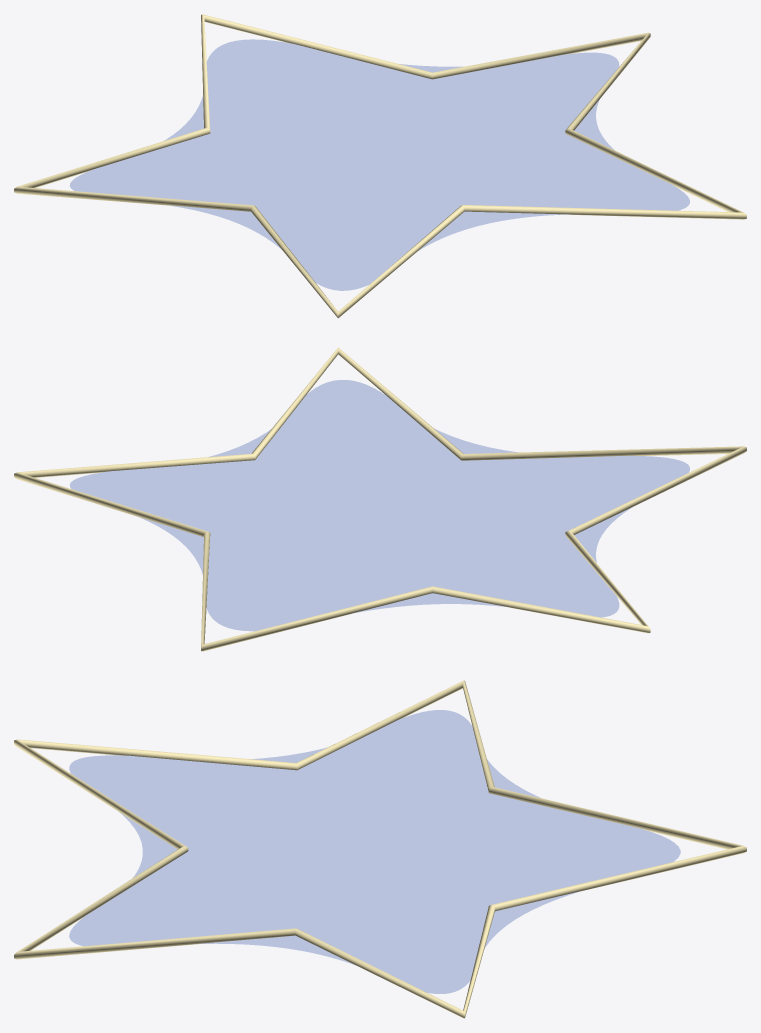
File: example.gltf
3 views of the same model, one above another, from view 1: azimuth 30°, elevation 25°; view 2: azimuth 150°, elevation 25°; view 3: azimuth 270°, elevation 25° (orthographic). The views are drawn at different scales.
Visible parts, largest first — view 1: chaikin_plate, control_polygon; view 2: chaikin_plate, control_polygon; view 3: chaikin_plate, control_polygon.
Part boxes in pixels (box(x1,y1,x2,y2)): chaikin_plate: box(70, 39, 689, 290); control_polygon: box(14, 14, 746, 318); chaikin_plate: box(69, 380, 689, 631); control_polygon: box(14, 347, 746, 651); chaikin_plate: box(69, 710, 680, 993); control_polygon: box(14, 680, 746, 1018).
Bounding box in the file's own units: 2.82 × 0.03 × 2.62.
